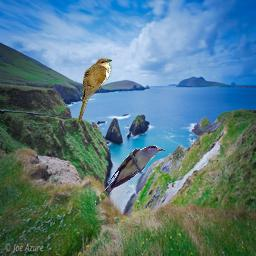Cuckoo: (95, 145, 165, 205), (77, 58, 112, 124)
